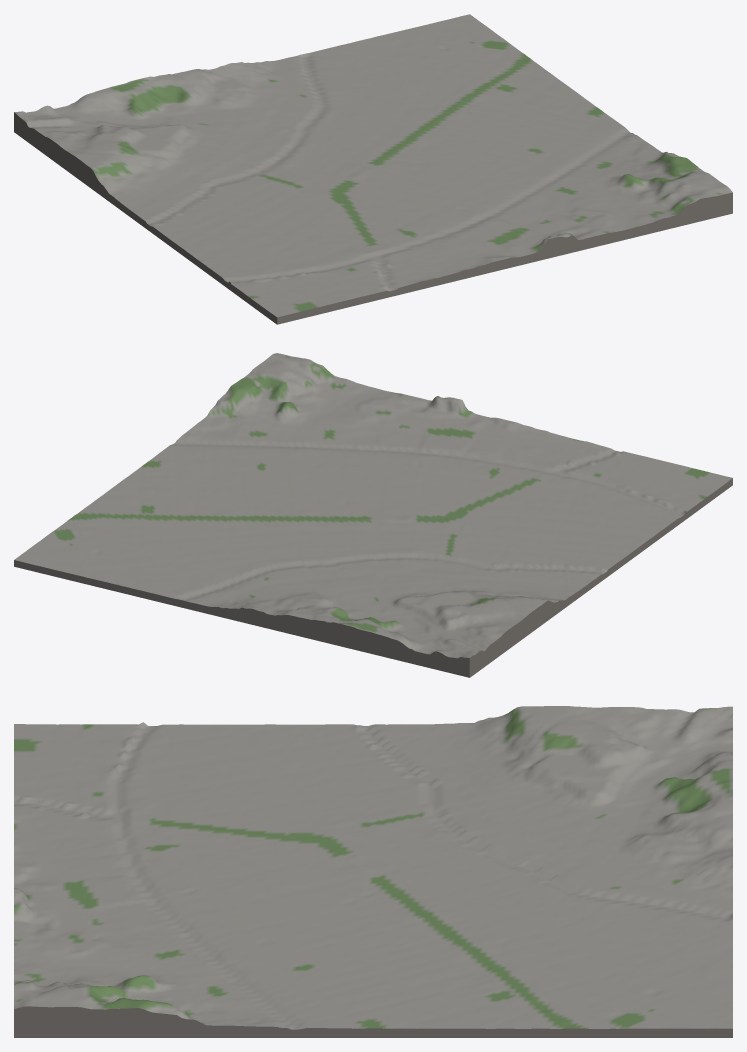
The model's file is terrain.glb.
3 renders of one model, top to bottom at view 1: azimuth 30°, elevation 25°; view 2: azimuth 150°, elevation 25°; view 3: azimuth 270°, elevation 25°, orthographic. The views are drawn at different scales.
Parts seen in each view (by area): view 1: terrain, terrain_skirt; view 2: terrain, terrain_skirt; view 3: terrain, terrain_skirt.
Boxes of the visible parts, box(x1,y1,x2,y2) form: terrain: box(14, 14, 732, 317); terrain_skirt: box(14, 112, 732, 324); terrain: box(14, 353, 732, 658); terrain_skirt: box(14, 478, 732, 677); terrain: box(14, 706, 732, 1029); terrain_skirt: box(14, 1006, 732, 1037).
Bounding box in the file's own units: 1500 × 73.37 × 1500.
